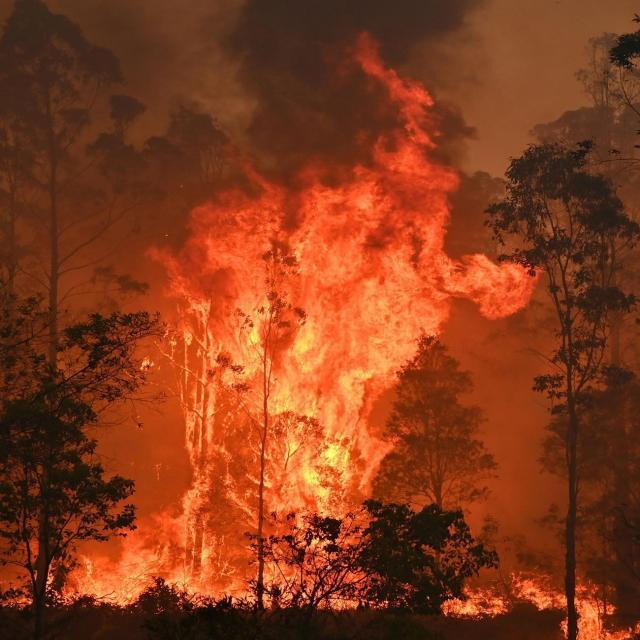Fire: (137, 256, 538, 431), (61, 429, 428, 619), (181, 119, 454, 254), (443, 534, 640, 640)
Smoke: (220, 0, 372, 152)
